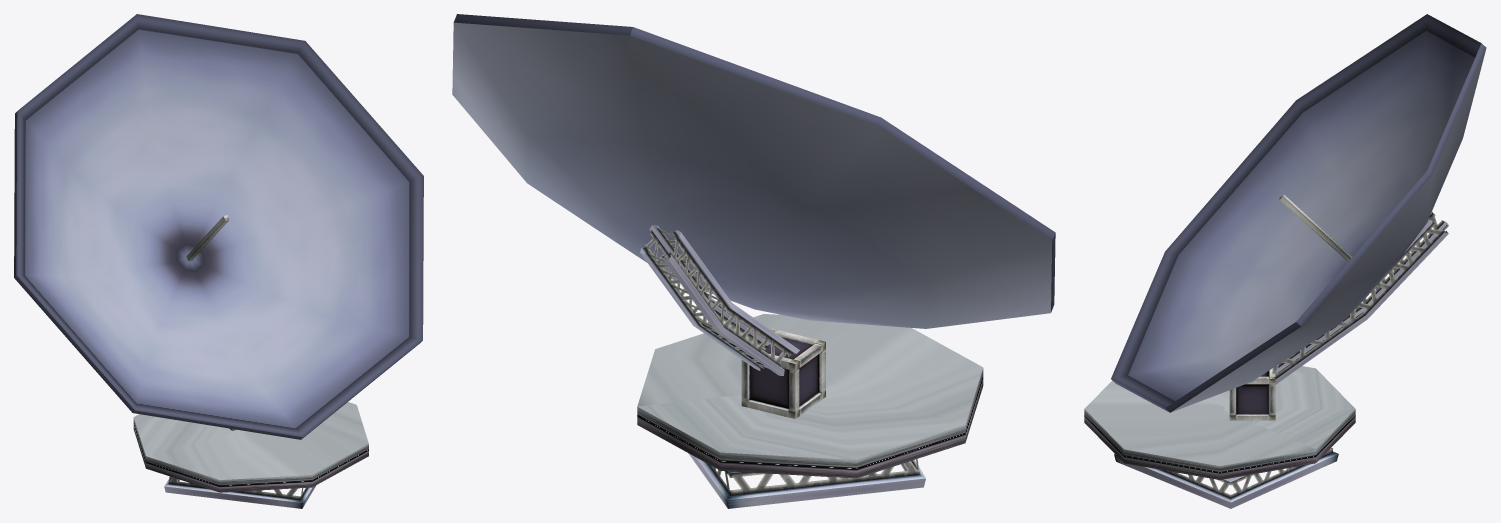
The model's file is disc_radio.DAE.
3 views of the same model, side by side, from view 1: azimuth 30°, elevation 25°; view 2: azimuth 150°, elevation 25°; view 3: azimuth 270°, elevation 25° (orthographic). The views are drawn at different scales.
Visible parts, largest first — view 1: Box02; view 2: Box02; view 3: Box02.
Part boxes in pixels (box(x1,y1,x2,y2)): Box02: box(14, 14, 423, 508); Box02: box(452, 14, 1055, 508); Box02: box(1084, 14, 1486, 508).
Size of the model in its own units: 19.66 by 17.37 by 15.09.
